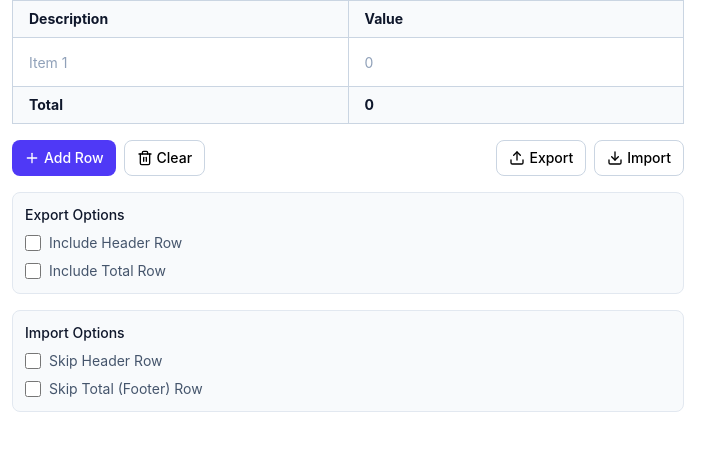
Test: ColumnSumTable › Data Validation › should show error for non-numeric value in value column
Type "abc" into the field named "value for row 1" at (516, 62), box [352,42,679,82]
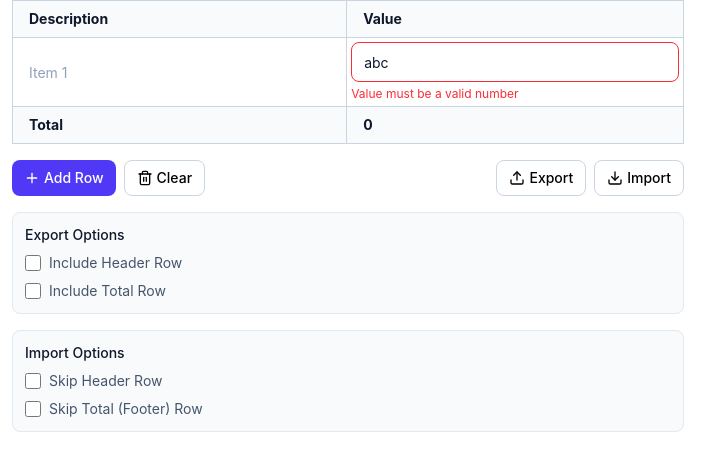
Expected: the text "Value must be a valid number" is shown, [351,86,519,101]
